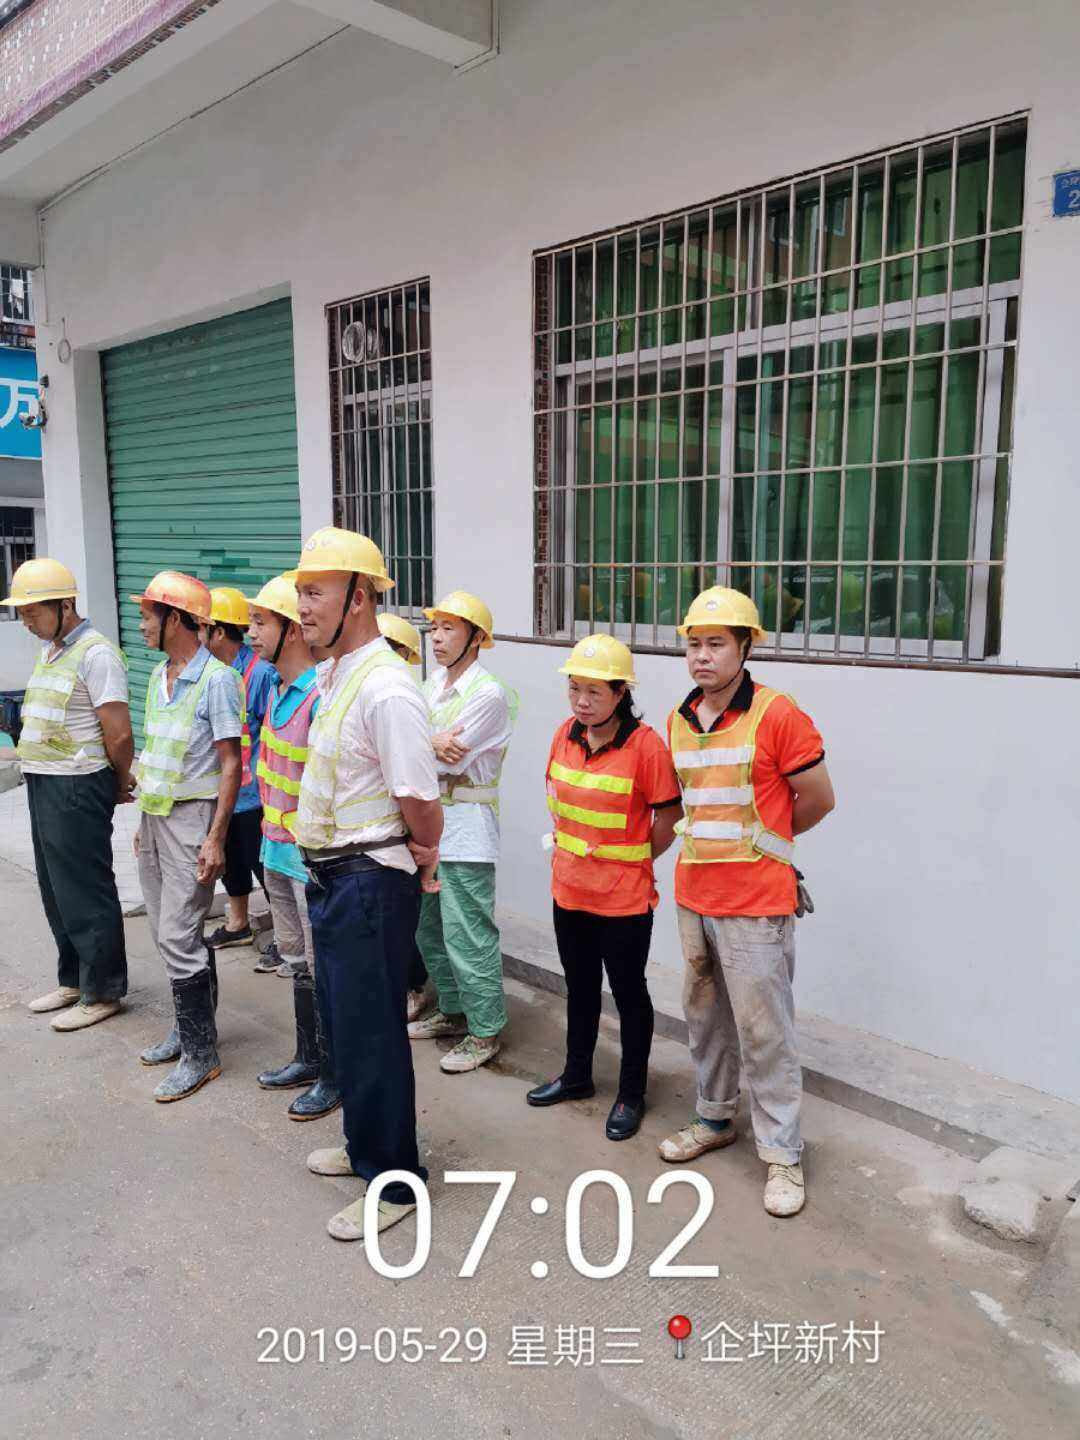person: (656, 583, 837, 1216), (287, 524, 444, 1242), (525, 631, 685, 1147), (121, 563, 254, 1108), (1, 551, 141, 1033), (240, 566, 341, 1127), (404, 586, 519, 1076)
reflective_vest: (290, 657, 425, 845), (669, 685, 783, 866), (545, 714, 655, 868), (132, 654, 228, 817), (14, 636, 127, 764), (425, 672, 519, 819), (255, 679, 320, 845)
safety_helmet: (292, 526, 402, 651), (676, 583, 775, 691), (126, 567, 218, 656), (555, 632, 637, 727), (1, 551, 81, 640), (419, 588, 499, 665), (242, 570, 302, 667), (199, 583, 251, 660)
